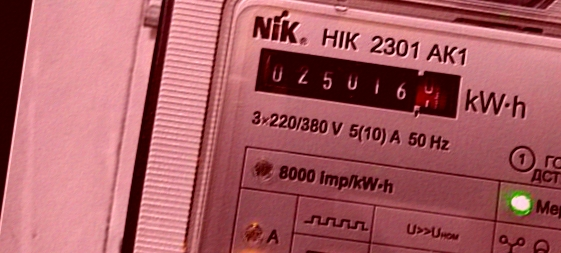0: (346, 67, 363, 92), (270, 60, 286, 84), (422, 73, 437, 95)
1: (371, 70, 385, 96), (422, 96, 432, 108)
2: (296, 61, 313, 85)
5: (321, 67, 335, 90)
6: (394, 76, 410, 103)
screen: (245, 35, 474, 128)
